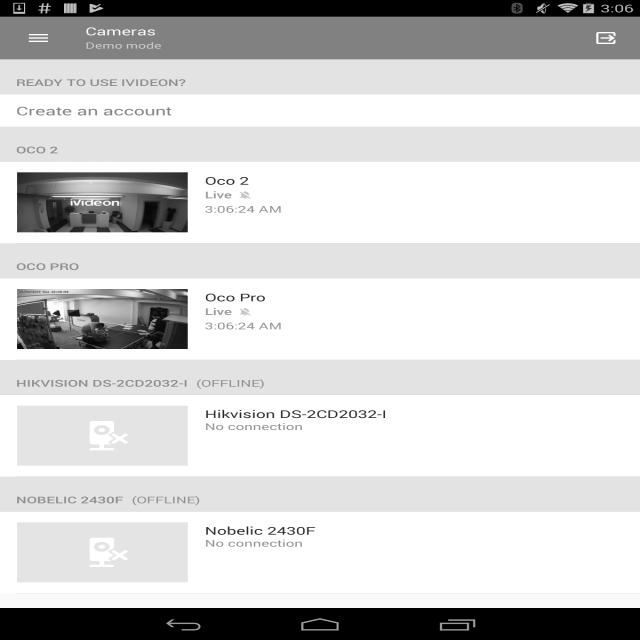ImageButton: (9, 17, 68, 59)
ImageView: (17, 172, 188, 232), (17, 289, 188, 349), (17, 406, 188, 466), (17, 522, 188, 582)
TextView: (131, 493, 640, 505), (204, 173, 602, 188), (204, 523, 602, 538), (204, 290, 602, 304), (204, 407, 602, 421), (196, 377, 640, 389), (16, 94, 172, 127), (0, 376, 188, 394), (0, 76, 187, 94), (0, 494, 123, 512), (580, 22, 632, 54), (0, 260, 79, 278), (205, 420, 303, 433), (205, 537, 303, 549), (205, 319, 286, 332), (0, 144, 58, 162), (85, 24, 156, 38), (205, 203, 286, 215), (85, 40, 162, 51), (205, 188, 251, 201), (205, 305, 251, 318)
